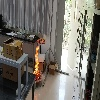fire: (34, 38, 40, 80)
